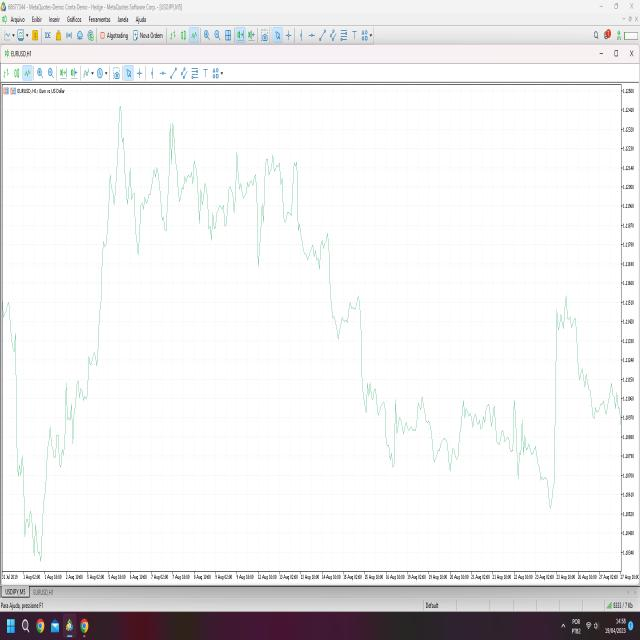bandeira_alta: (36, 412, 64, 562), (84, 344, 100, 404)
bandeira_baixa: (324, 201, 359, 347), (355, 273, 377, 422)
oco: (138, 106, 202, 276), (548, 278, 583, 367)
oco_inv: (417, 396, 474, 478)
